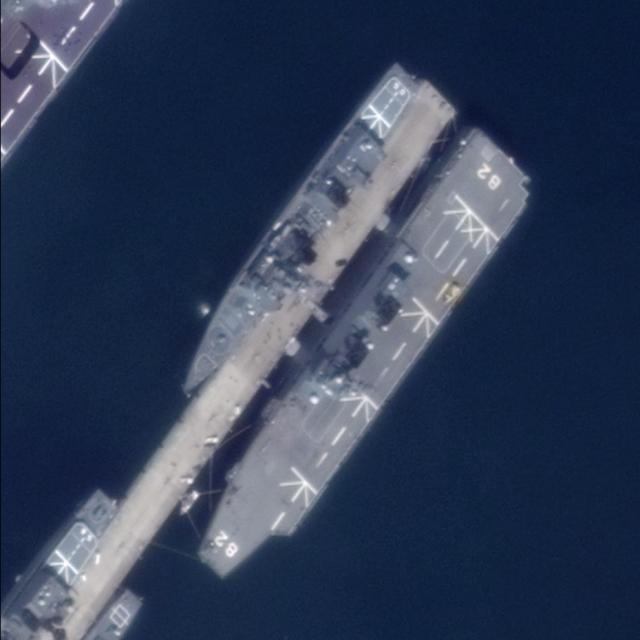Destroyer: (171, 125, 542, 601), (160, 57, 458, 425)
